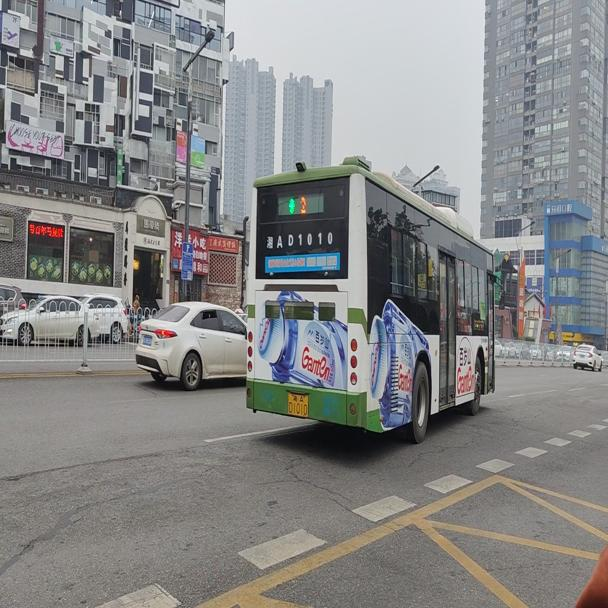bus: (244, 155, 505, 436)
screen: (294, 193, 313, 216)
